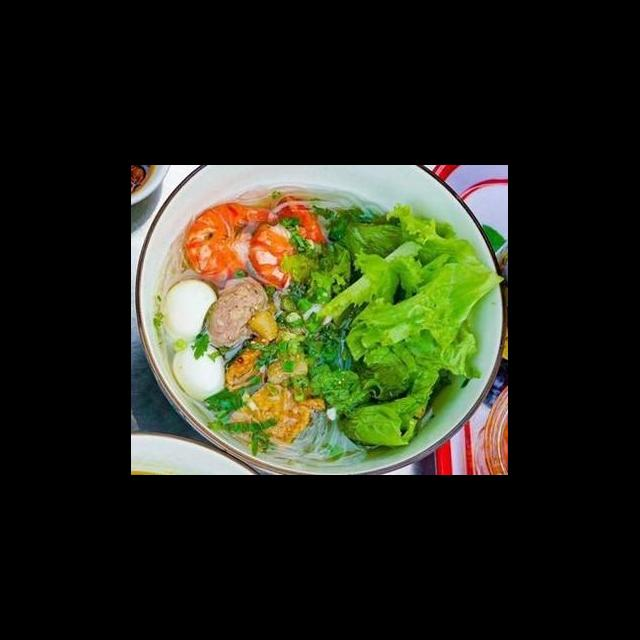banh hu tieu: (270, 401, 370, 469)
tom: (182, 196, 286, 284), (244, 191, 334, 290)
trung: (158, 277, 225, 346), (170, 338, 230, 405)
